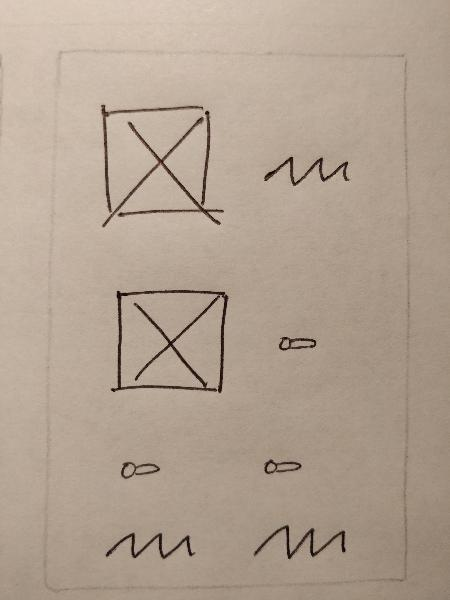image: (95, 95, 231, 235), (102, 277, 241, 403)
switch: (254, 445, 318, 487), (107, 454, 179, 487), (271, 329, 326, 360)
text: (242, 513, 358, 568), (257, 147, 359, 198), (93, 522, 207, 564)
